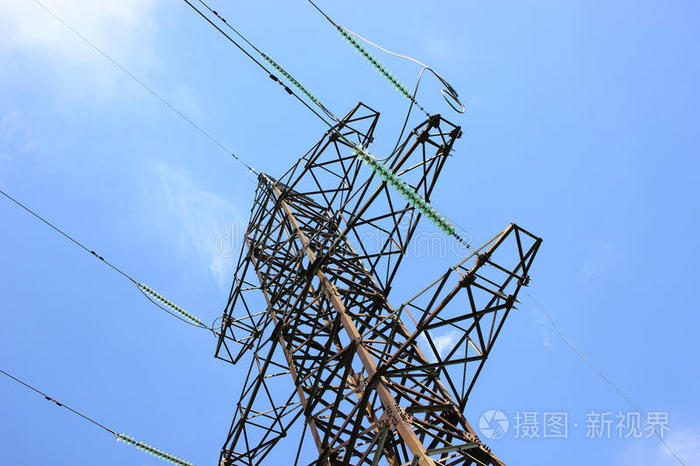insulator: (354, 144, 457, 236), (334, 27, 414, 98), (137, 279, 206, 328), (112, 432, 186, 466)
